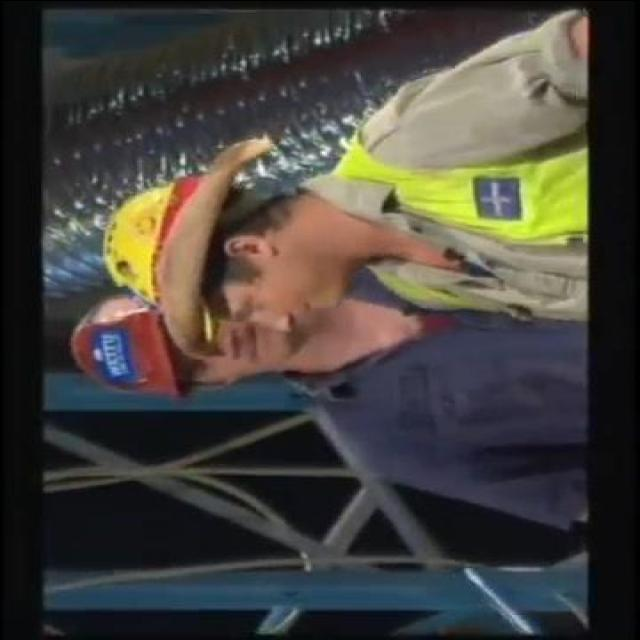helmet: (102, 132, 202, 316), (58, 285, 182, 413)
